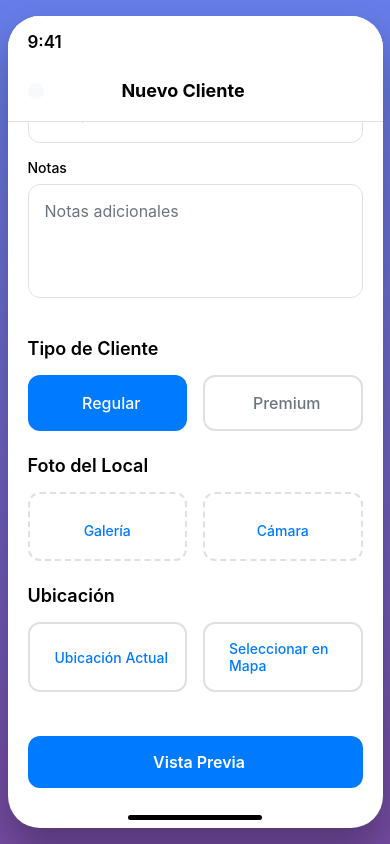
Test: NewClientScreen › Location › closes map modal when cancel is pressed
(page scrolled)
# Open modal
Step 1. Click the text "Seleccionar en Mapa" → (287, 657), box [229, 640, 344, 674]
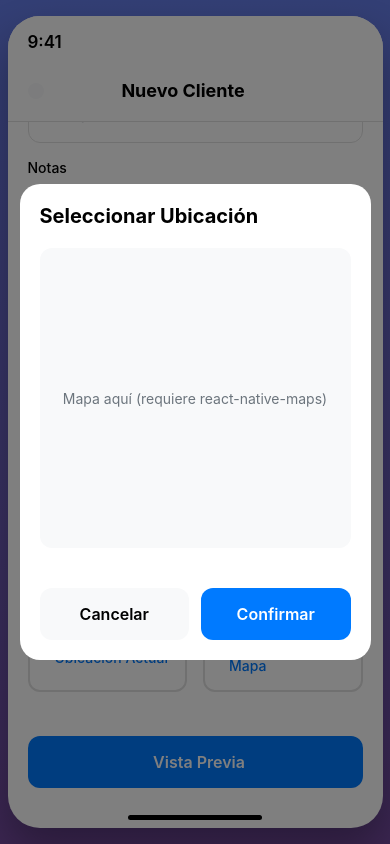
Expected: the text "Seleccionar Ubicación" is shown, [40, 204, 258, 228]
# Close modal
Step 2. Click the text "Cancelar" → (114, 614), box [80, 604, 149, 624]
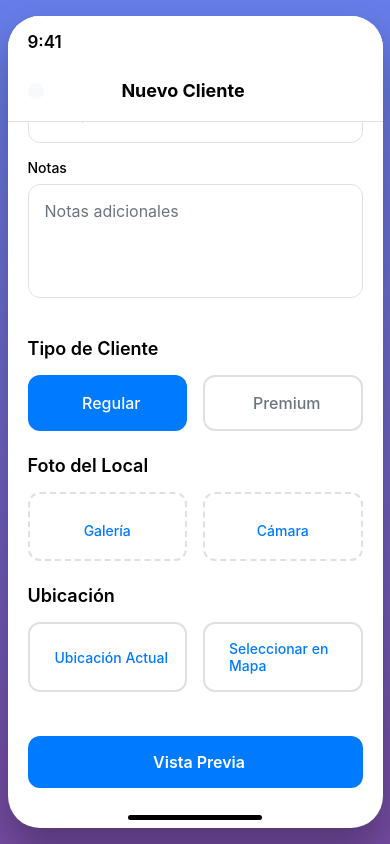
Expected: the text "Seleccionar Ubicación" is gone
